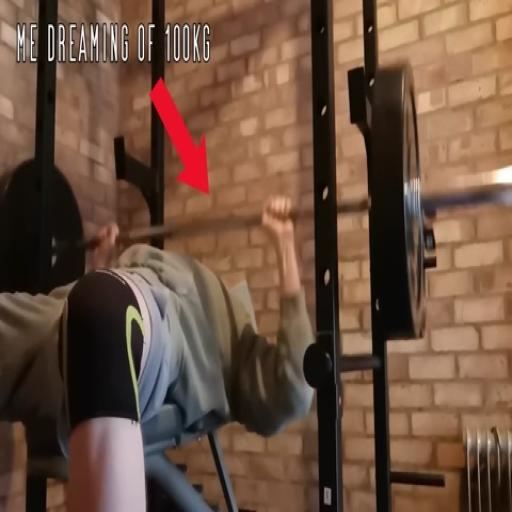exercise: (0, 190, 317, 510)
